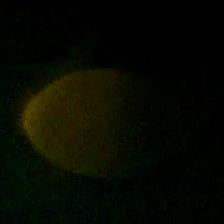fertile: (19, 65, 172, 181)
